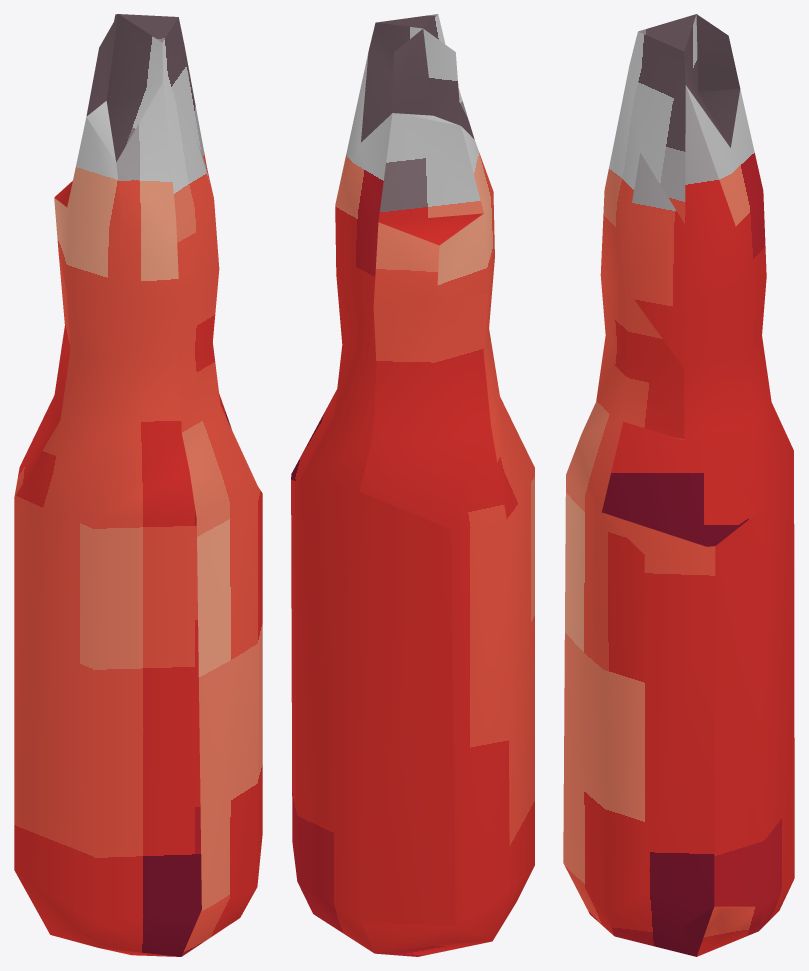
The model's file is screwdriver.glb.
3 renders of one model, left to right at view 1: azimuth 30°, elevation 25°; view 2: azimuth 150°, elevation 25°; view 3: azimuth 270°, elevation 25°, orthographic.
Parts seen in each view (by area): view 1: mesh; view 2: mesh; view 3: mesh.
Part boxes in pixels (x1,y1,x2,y2): mesh: [14, 14, 262, 956]; mesh: [291, 14, 534, 956]; mesh: [563, 14, 794, 956].
Size of the model in its own units: 0.0519 by 0.209 by 0.0471.
Materials: 1 (1 with a texture image).
